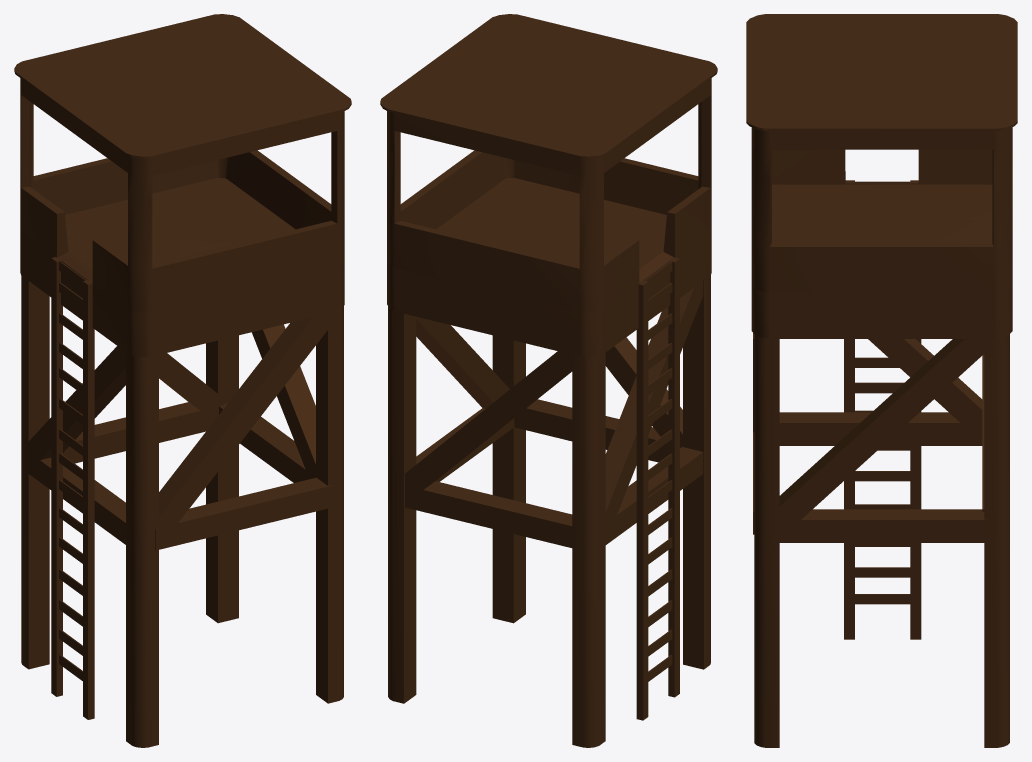
Rendered from archer_tower.glb.
The picture shows the model from 3 angles, left to right: view 1: azimuth 30°, elevation 25°; view 2: azimuth 150°, elevation 25°; view 3: azimuth 270°, elevation 25°; orthographic projection. The views are drawn at different scales.
Visible parts, largest first — view 1: Ladder.005; view 2: Ladder.005; view 3: Ladder.005.
Boxes of the visible parts, <box> form: Ladder.005: <box>14,14,351,747</box>; Ladder.005: <box>380,14,717,747</box>; Ladder.005: <box>746,14,1017,747</box>.
Bounding box in the file's own units: 10.7 × 26.99 × 10.66.
Materials: 1 (1 with a texture image).
